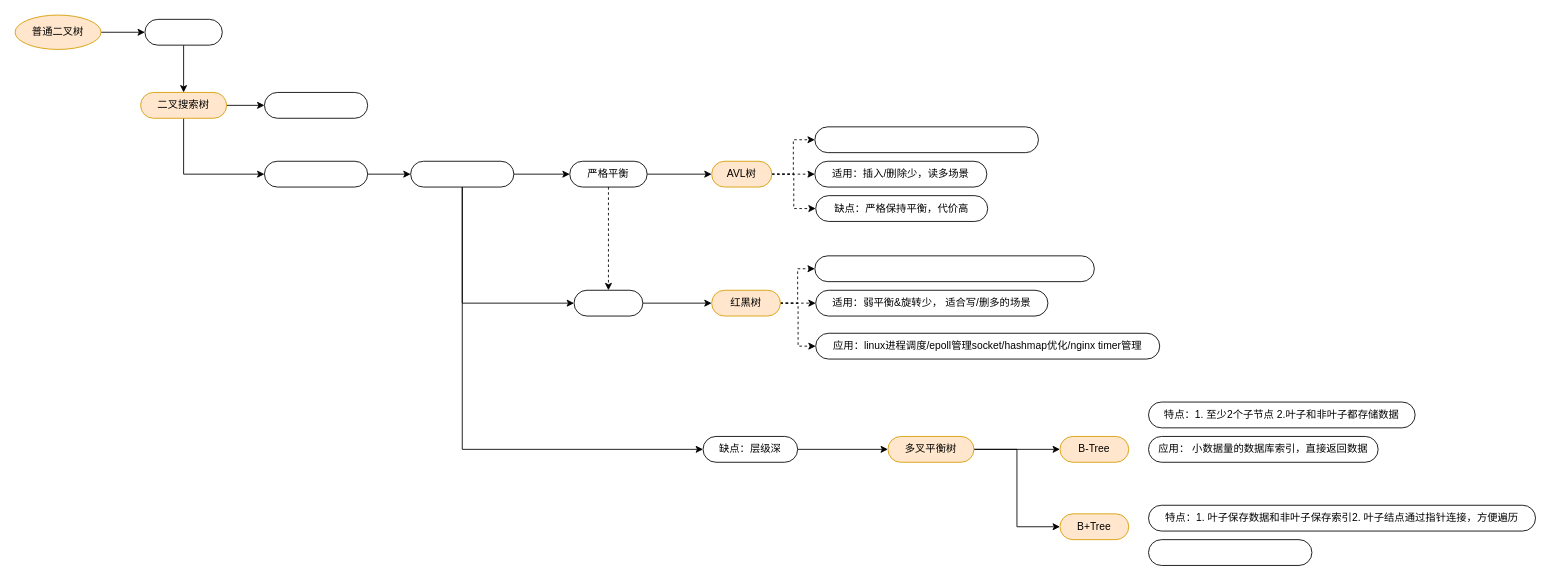
Some shapes in this 1551 by 581 pixel diagram are drawn without their labels. Each missing label, with the box of its shape:
优点：O(logn): (264, 92, 368, 118)
应用： 文件系统/数据库索引: (1148, 539, 1312, 565)
弱平衡: (573, 289, 643, 316)
改进： 树平衡: (410, 160, 514, 187)
极端情况：链表: (264, 160, 368, 187)
特点：左右节点高度不超过1，超过要 旋转: (814, 126, 1038, 153)
特点：红黑标识节点&每条路径黑点不超过其他2倍: (814, 255, 1094, 282)
节点无序: (144, 18, 222, 45)
